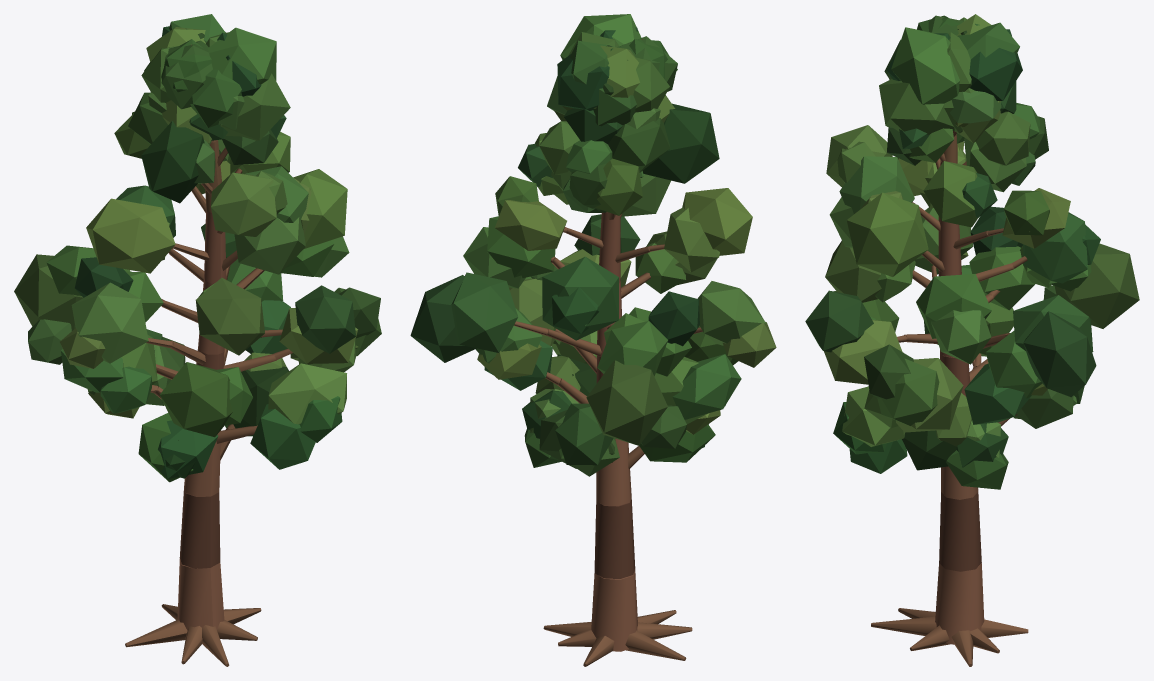
Rendered from tree_normal_medium_redwood_a.glb.
3 views of the same model, side by side, from view 1: azimuth 30°, elevation 25°; view 2: azimuth 150°, elevation 25°; view 3: azimuth 270°, elevation 25° (orthographic).
Visible parts, largest first — view 1: leaves, wood; view 2: leaves, wood; view 3: leaves, wood.
Part boxes in pixels (box(x1,y1,x2,y2)): leaves: box(14, 14, 381, 482); wood: box(125, 44, 292, 666); leaves: box(410, 14, 776, 476); wood: box(514, 39, 702, 666); leaves: box(805, 14, 1139, 489); wood: box(871, 17, 1028, 666).
Bounding box in the file's own units: 6.75 × 13.28 × 6.51.
